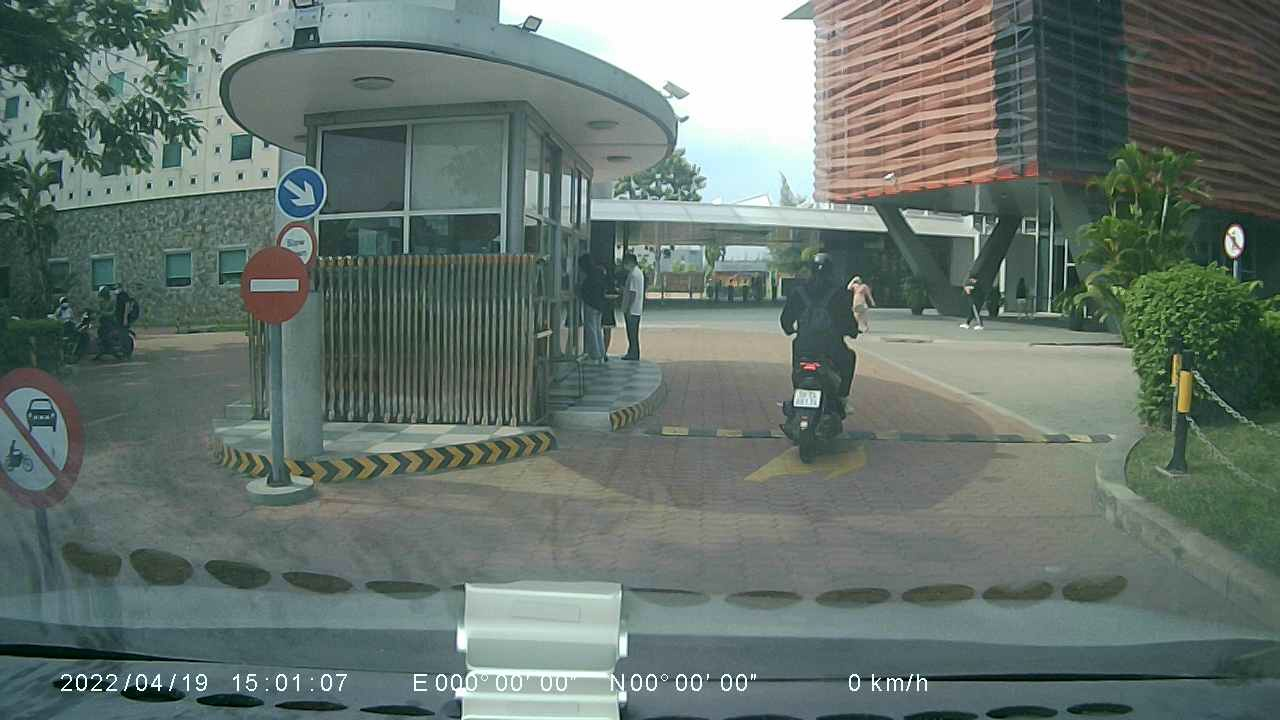Cam di nguoc chieu: (239, 244, 310, 322)
Huong di phai re phai: (273, 164, 328, 216)
